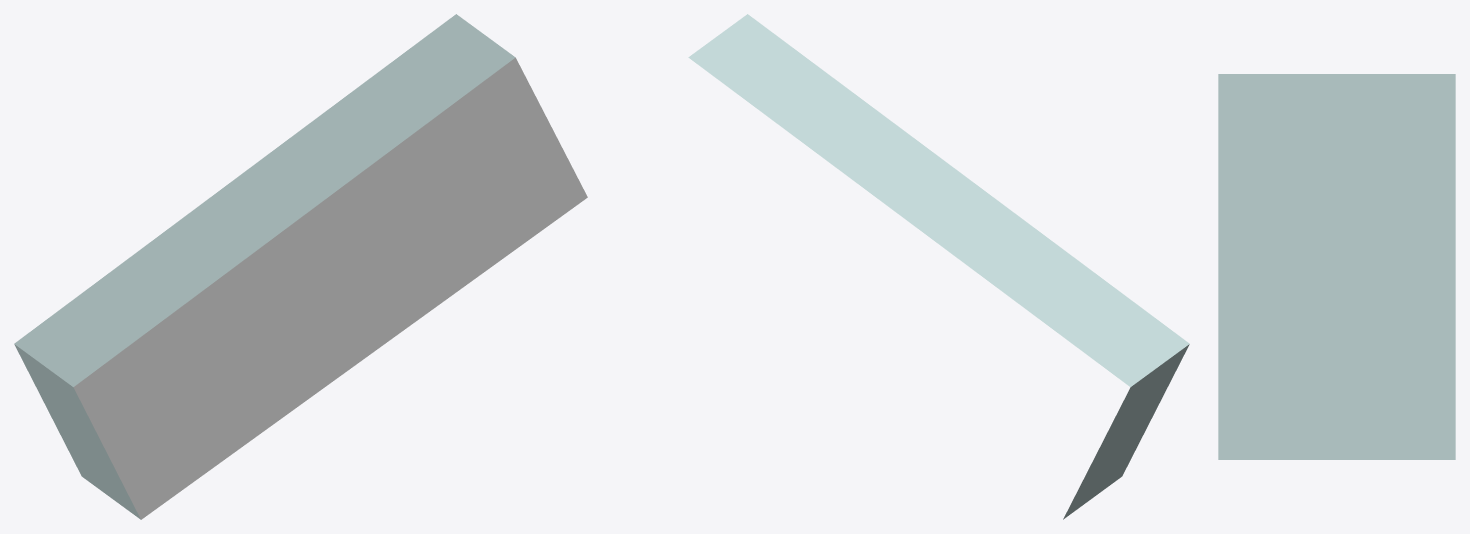
3 renders of one model, left to right at view 1: azimuth 30°, elevation 25°; view 2: azimuth 150°, elevation 25°; view 3: azimuth 270°, elevation 25°, orthographic. The views are drawn at different scales.
Parts seen in each view (by area): view 1: 0_1_1_3_1_3_3_0_0; view 2: 0_1_1_3_1_3_3_0_0; view 3: 0_1_1_3_1_3_3_0_0.
Part boxes in pixels (x1,y1,x2,y2): 0_1_1_3_1_3_3_0_0: (14,14,587,519); 0_1_1_3_1_3_3_0_0: (688,14,1189,519); 0_1_1_3_1_3_3_0_0: (1218,74,1455,459).
Bounding box in the file's own units: 15 × 10.34 × 3.
